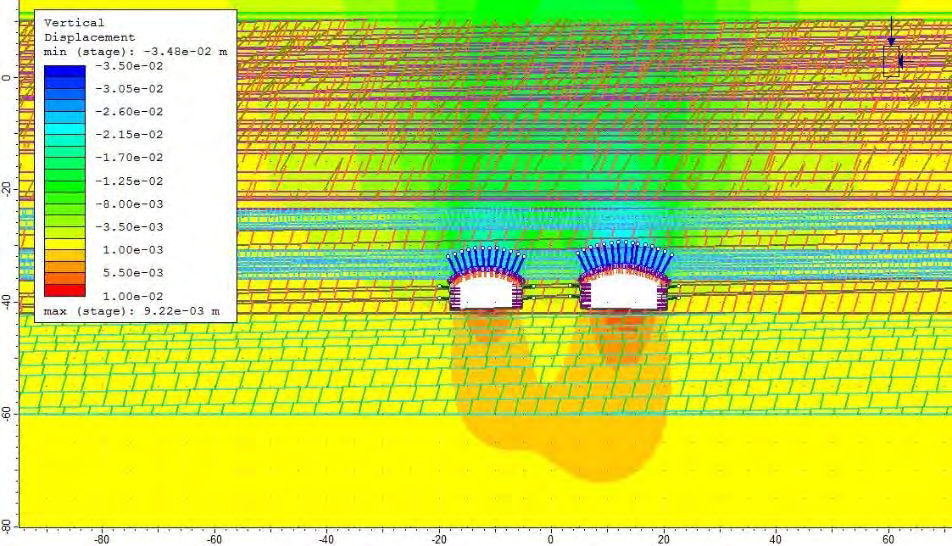crown: (611, 253, 640, 264), (475, 252, 493, 264)
label: (36, 10, 233, 316)
tunnel-opening: (581, 268, 668, 310), (448, 265, 523, 309)
